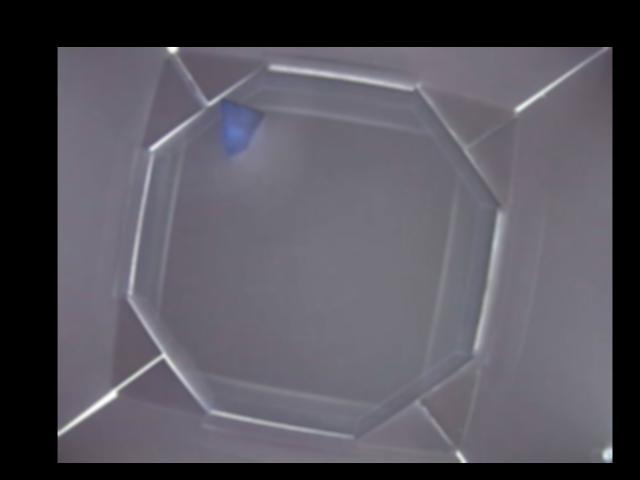Mooli: (216, 97, 264, 157)
